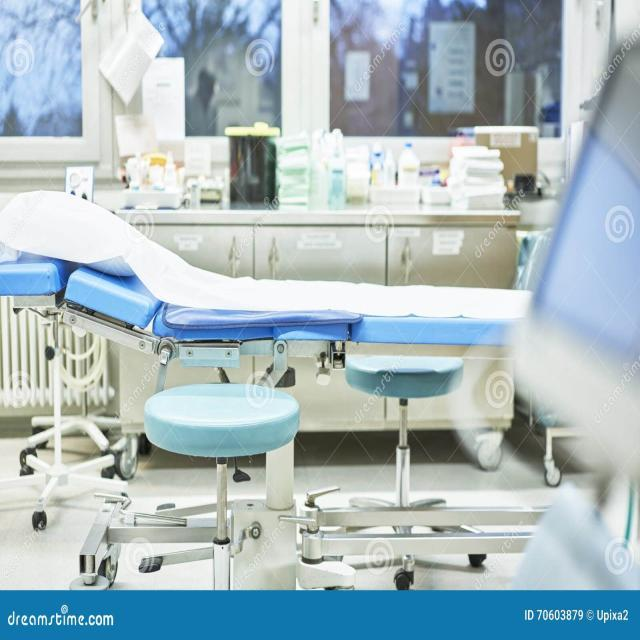bed: (0, 142, 535, 564)
stool: (321, 351, 507, 595), (124, 375, 310, 592)
